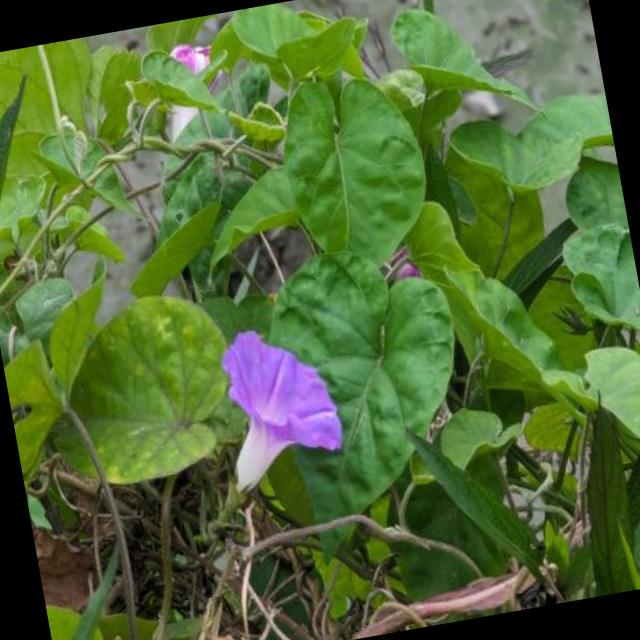ipomoea: (203, 313, 354, 502)
